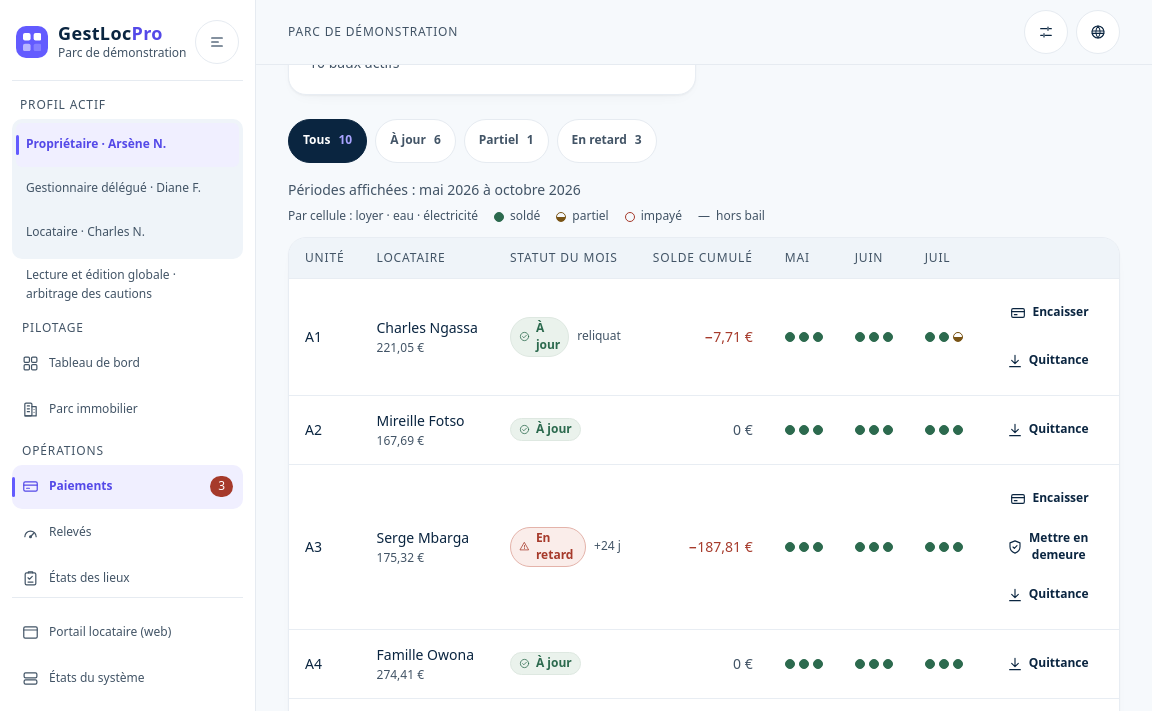
Test: une pièce lue en euros › porte des euros, et non les francs du parc
This screenshot has width=1152, height=711.
(page scrolled)
What coordinates should you click on to do the following:
click the button "Quittance" in the row of "A1"
I would click on:
 (1048, 361)
Its box is [993, 339, 1103, 383].
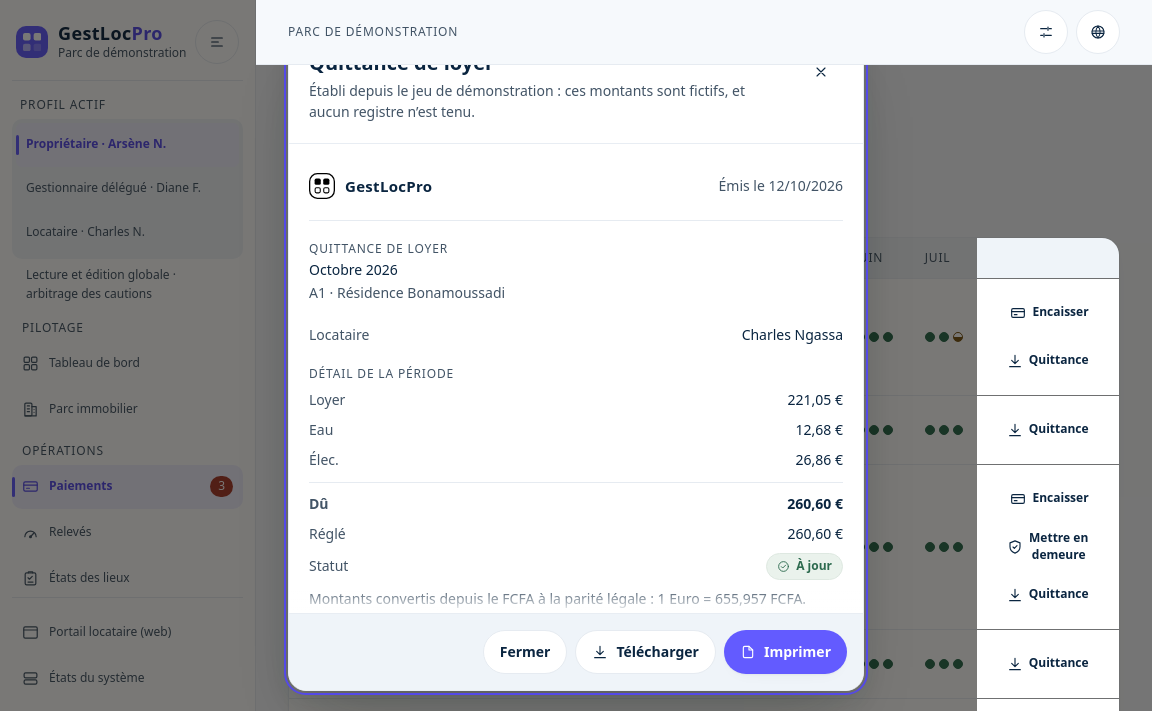
Check: the dialog shows "260,60", box [787, 494, 843, 514]
